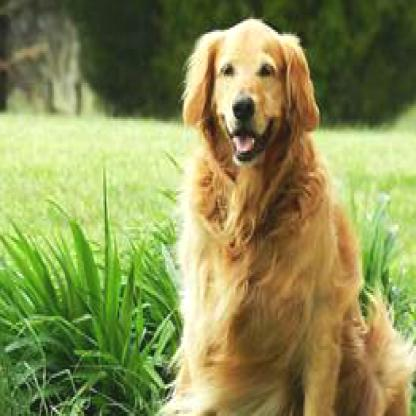dog: (179, 19, 408, 414)
